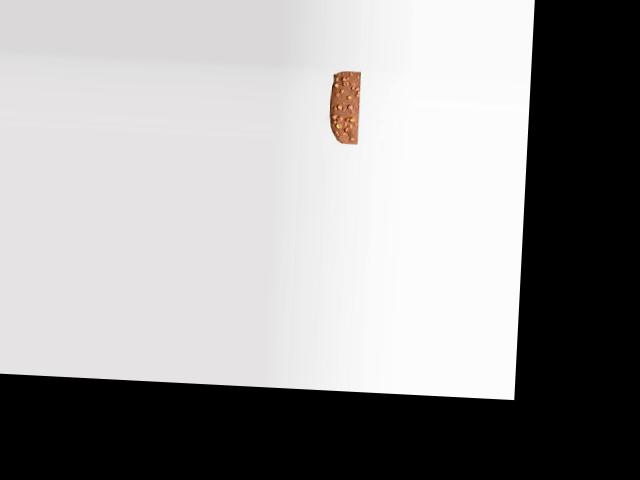chocolate: (322, 70, 364, 144)
